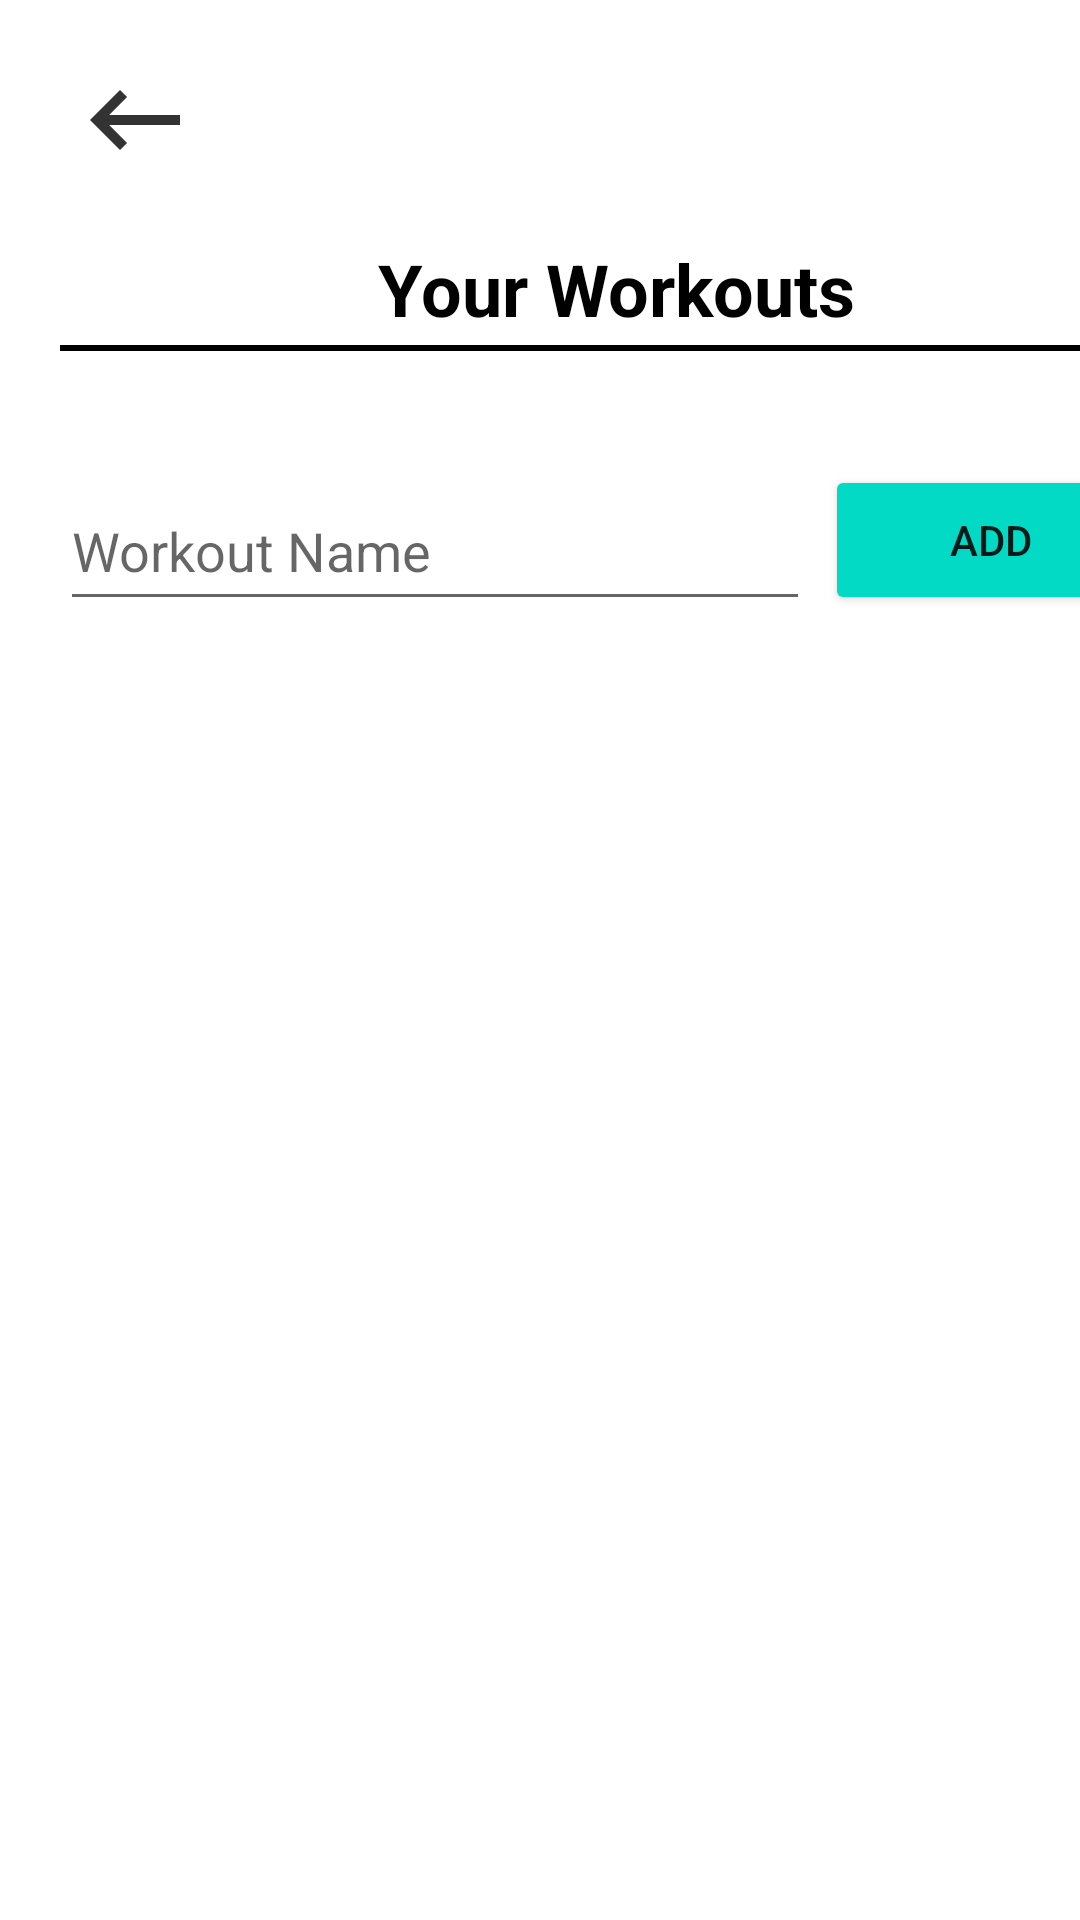

Icons on this 1080*1920 Android screen, each with the point to tap as point (x, y):
return arrow: point (135, 120)
